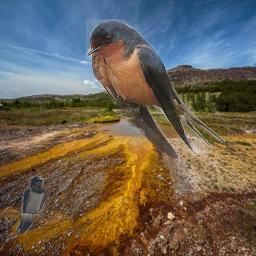Swallow: (86, 19, 225, 159), (15, 176, 46, 235)
